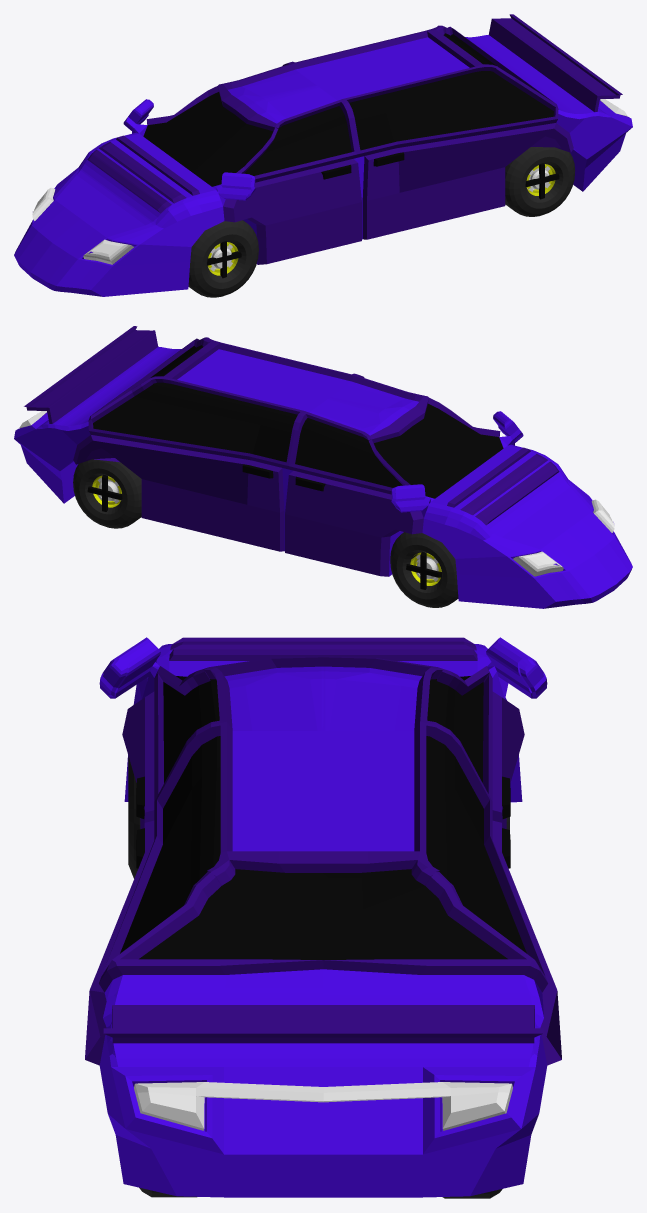
Rendered from Araba1.fbx.
3 renders of one model, top to bottom at view 1: azimuth 30°, elevation 25°; view 2: azimuth 150°, elevation 25°; view 3: azimuth 270°, elevation 25°, orthographic. The views are drawn at different scales.
Visible parts, largest first — view 1: Cube, Cube.002, Cube.001, Cube.007, Cube.009, Cube.008, Cylinder, Cylinder.002, Cube.004, Cube.012, Cube.013; view 2: Cube, Cube.002, Cube.001, Cube.007, Cube.009, Cube.008, Cylinder.003, Cylinder.004, Cube.004, Cube.015, Cube.014; view 3: Cube, Cube.007, Cube.001, Cube.009, Cube.003, Cube.002, Cube.005, Cylinder.
Boxes of the visible parts, x1=… form: Cube: x1=14, y1=35, x2=632, y2=296; Cube.002: x1=223, y1=123, x2=573, y2=264; Cube.001: x1=244, y1=71, x2=553, y2=175; Cube.007: x1=146, y1=25, x2=558, y2=182; Cube.009: x1=87, y1=14, x2=622, y2=213; Cube.008: x1=143, y1=92, x2=272, y2=186; Cylinder: x1=188, y1=220, x2=258, y2=297; Cylinder.002: x1=505, y1=147, x2=575, y2=216; Cube.004: x1=32, y1=187, x2=133, y2=264; Cube.012: x1=207, y1=241, x2=241, y2=278; Cube.013: x1=525, y1=163, x2=559, y2=199; Cube: x1=14, y1=346, x2=632, y2=608; Cube.002: x1=73, y1=435, x2=423, y2=576; Cube.001: x1=93, y1=382, x2=402, y2=487; Cube.007: x1=88, y1=337, x2=500, y2=494; Cube.009: x1=24, y1=326, x2=559, y2=525; Cube.008: x1=374, y1=403, x2=503, y2=498; Cylinder.003: x1=390, y1=532, x2=458, y2=607; Cylinder.004: x1=73, y1=459, x2=141, y2=528; Cube.004: x1=513, y1=499, x2=614, y2=576; Cube.015: x1=406, y1=551, x2=441, y2=589; Cube.014: x1=87, y1=474, x2=122, y2=511; Cube: x1=99, y1=637, x2=547, y2=1197; Cube.007: x1=99, y1=656, x2=547, y2=992; Cube.001: x1=120, y1=679, x2=526, y2=953; Cube.009: x1=103, y1=637, x2=543, y2=1043; Cube.003: x1=139, y1=869, x2=507, y2=959; Cube.002: x1=85, y1=691, x2=561, y2=1065; Cube.005: x1=134, y1=1082, x2=512, y2=1130; Cylinder: x1=128, y1=756, x2=140, y2=878.
Bounding box in the file's own units: 1272 × 328 × 474.
